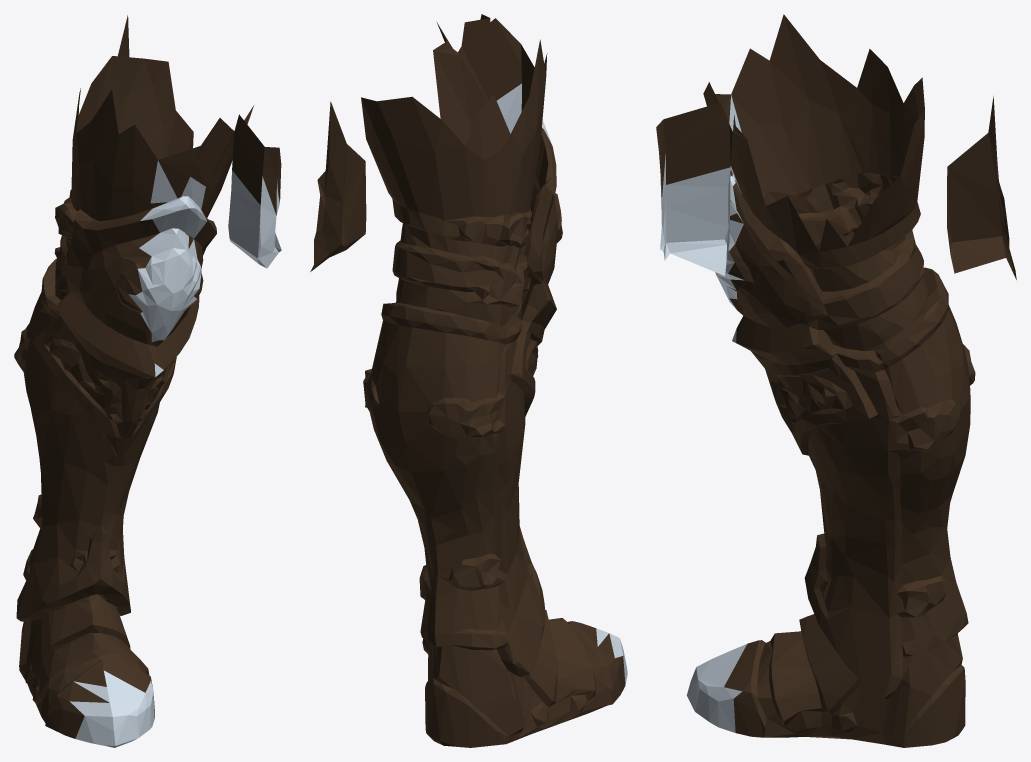
The model's file is knight_leg_r.obj.
3 renders of one model, left to right at view 1: azimuth 30°, elevation 25°; view 2: azimuth 150°, elevation 25°; view 3: azimuth 270°, elevation 25°, orthographic. The views are drawn at different scales.
Parts seen in each view (by area): view 1: Knight_RightLeg; view 2: Knight_RightLeg; view 3: Knight_RightLeg.
Part boxes in pixels (bbox=[...]): Knight_RightLeg: bbox=[14, 15, 281, 747]; Knight_RightLeg: bbox=[310, 14, 627, 747]; Knight_RightLeg: bbox=[656, 14, 1016, 747].
Bounding box in the file's own units: 0.281 × 0.8744 × 0.4036.
